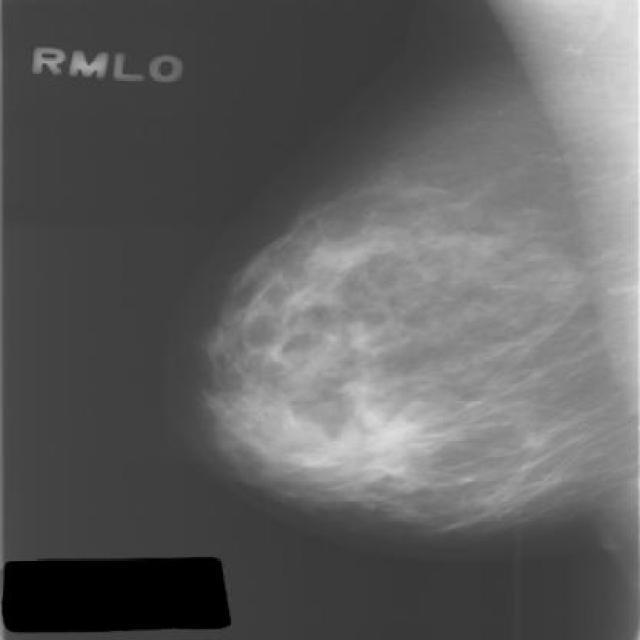tumor: (232, 260, 430, 528)
